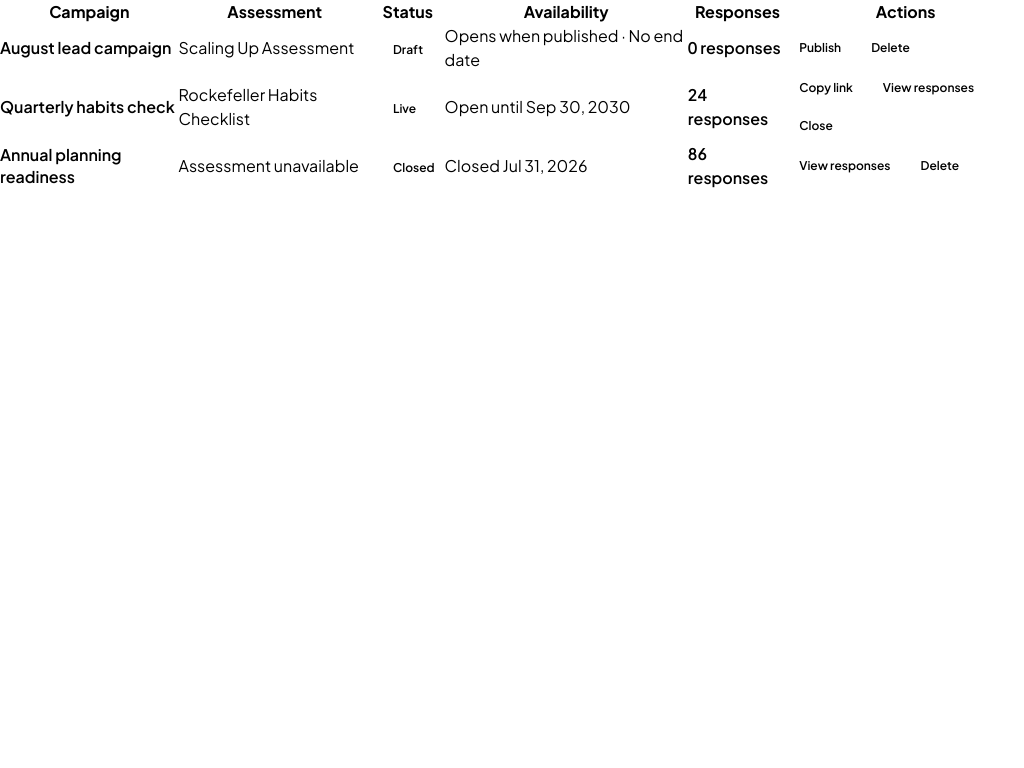
Test: PublicCampaignList › removes only the deleted row and collapses its expanded responses
Expected: the text "Annual planning readiness" is shown, [0,144,122,187]
Click the button "View responses" in the row of "Annual planning readiness". click: {"x": 845, "y": 166}
box: [787,150,903,182]
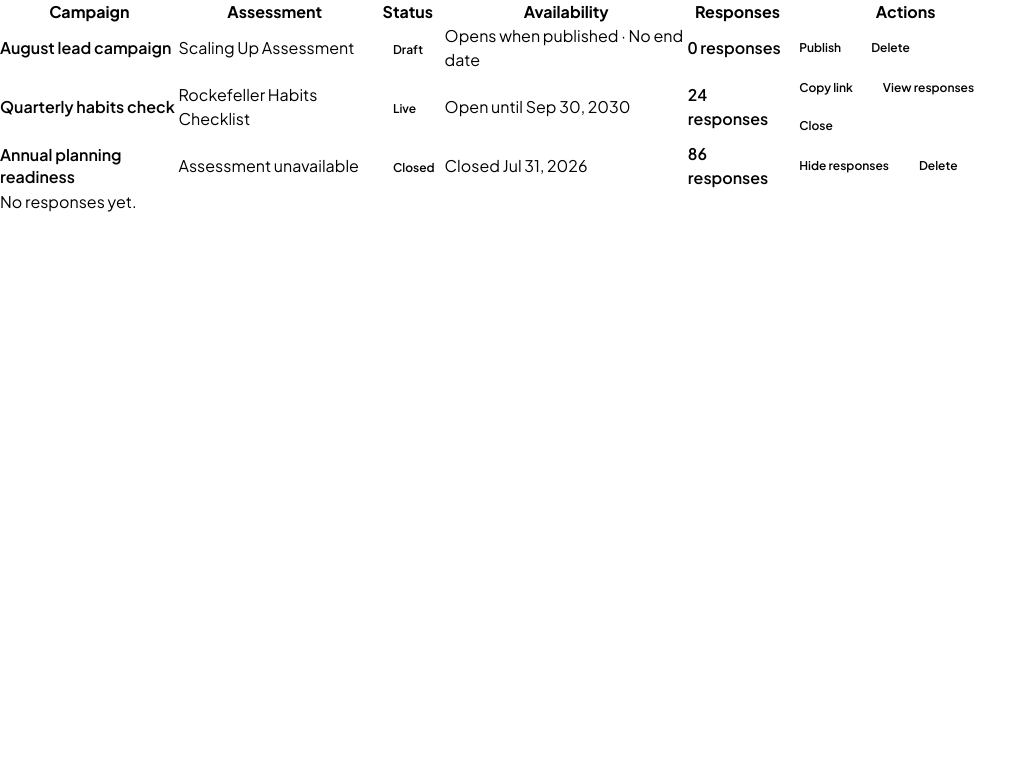
Result: the text "No responses yet." is shown at [0,191,137,212]
Click the button "Delete" in the row of "Annual planning readiness". click: {"x": 938, "y": 166}
box: [907,150,970,182]
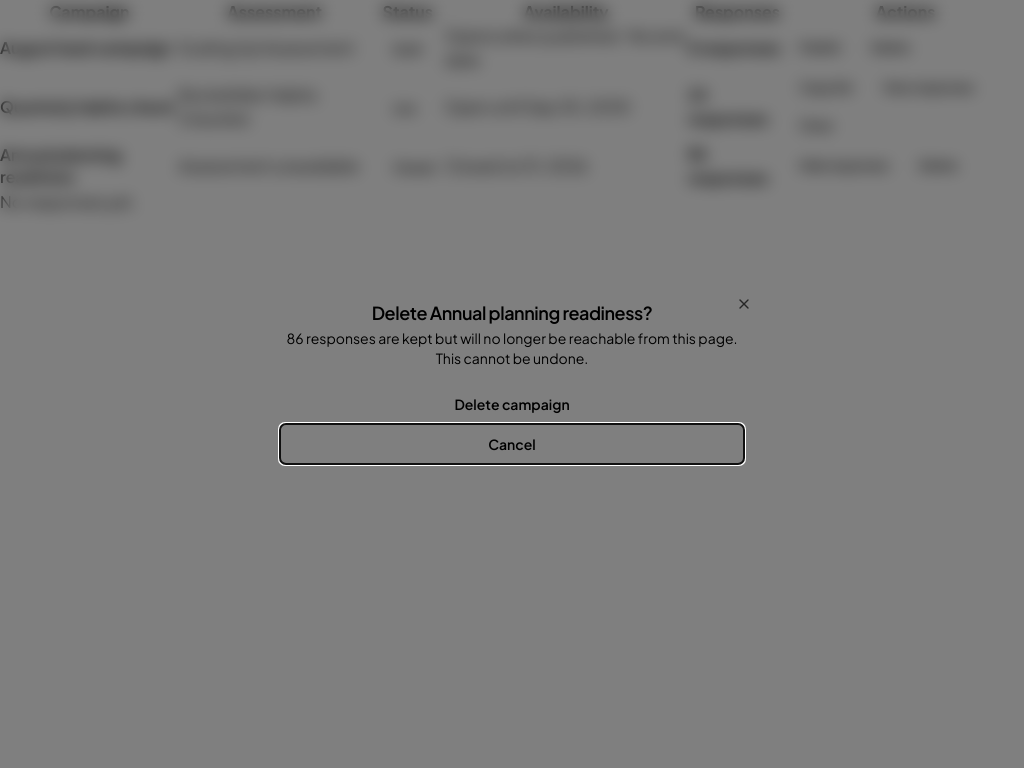
Click the button "Delete campaign". click: {"x": 512, "y": 404}
box: [280,384,744,424]
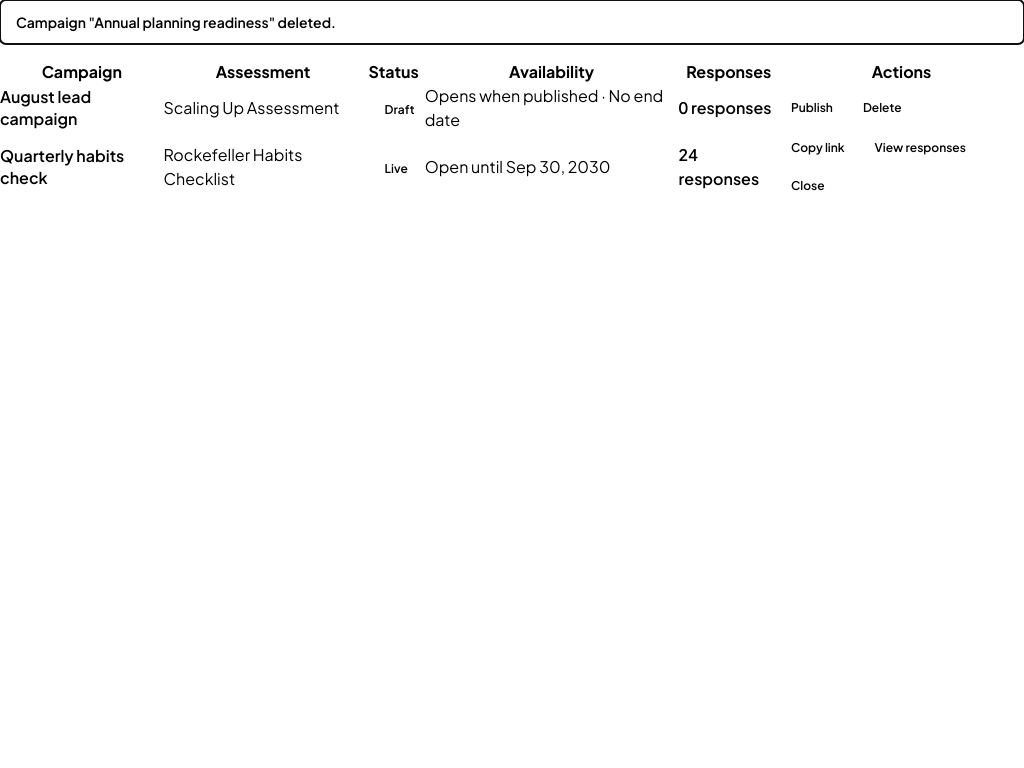
Expected: the text "August lead campaign" is shown, [0,86,91,129]
Result: the text "No responses yet." is gone
Result: the message reads "Campaign \"Annual planning readiness\" deleted." at [16,13,336,31]
